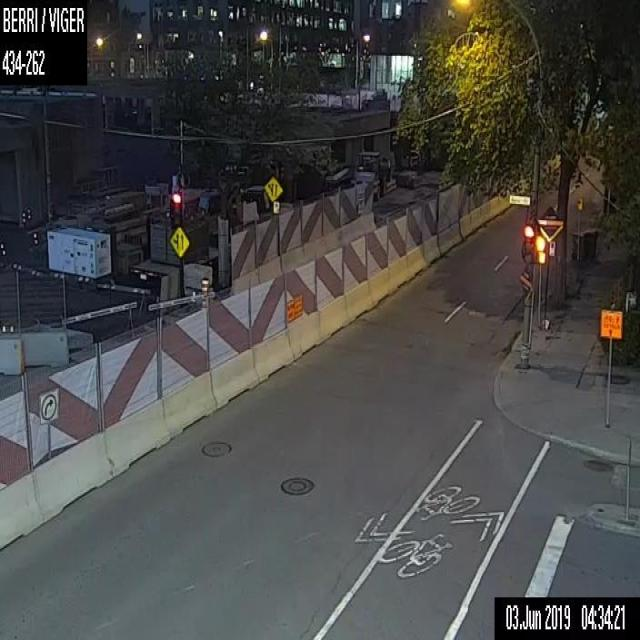construction: (600, 304, 619, 426), (200, 275, 209, 310)
